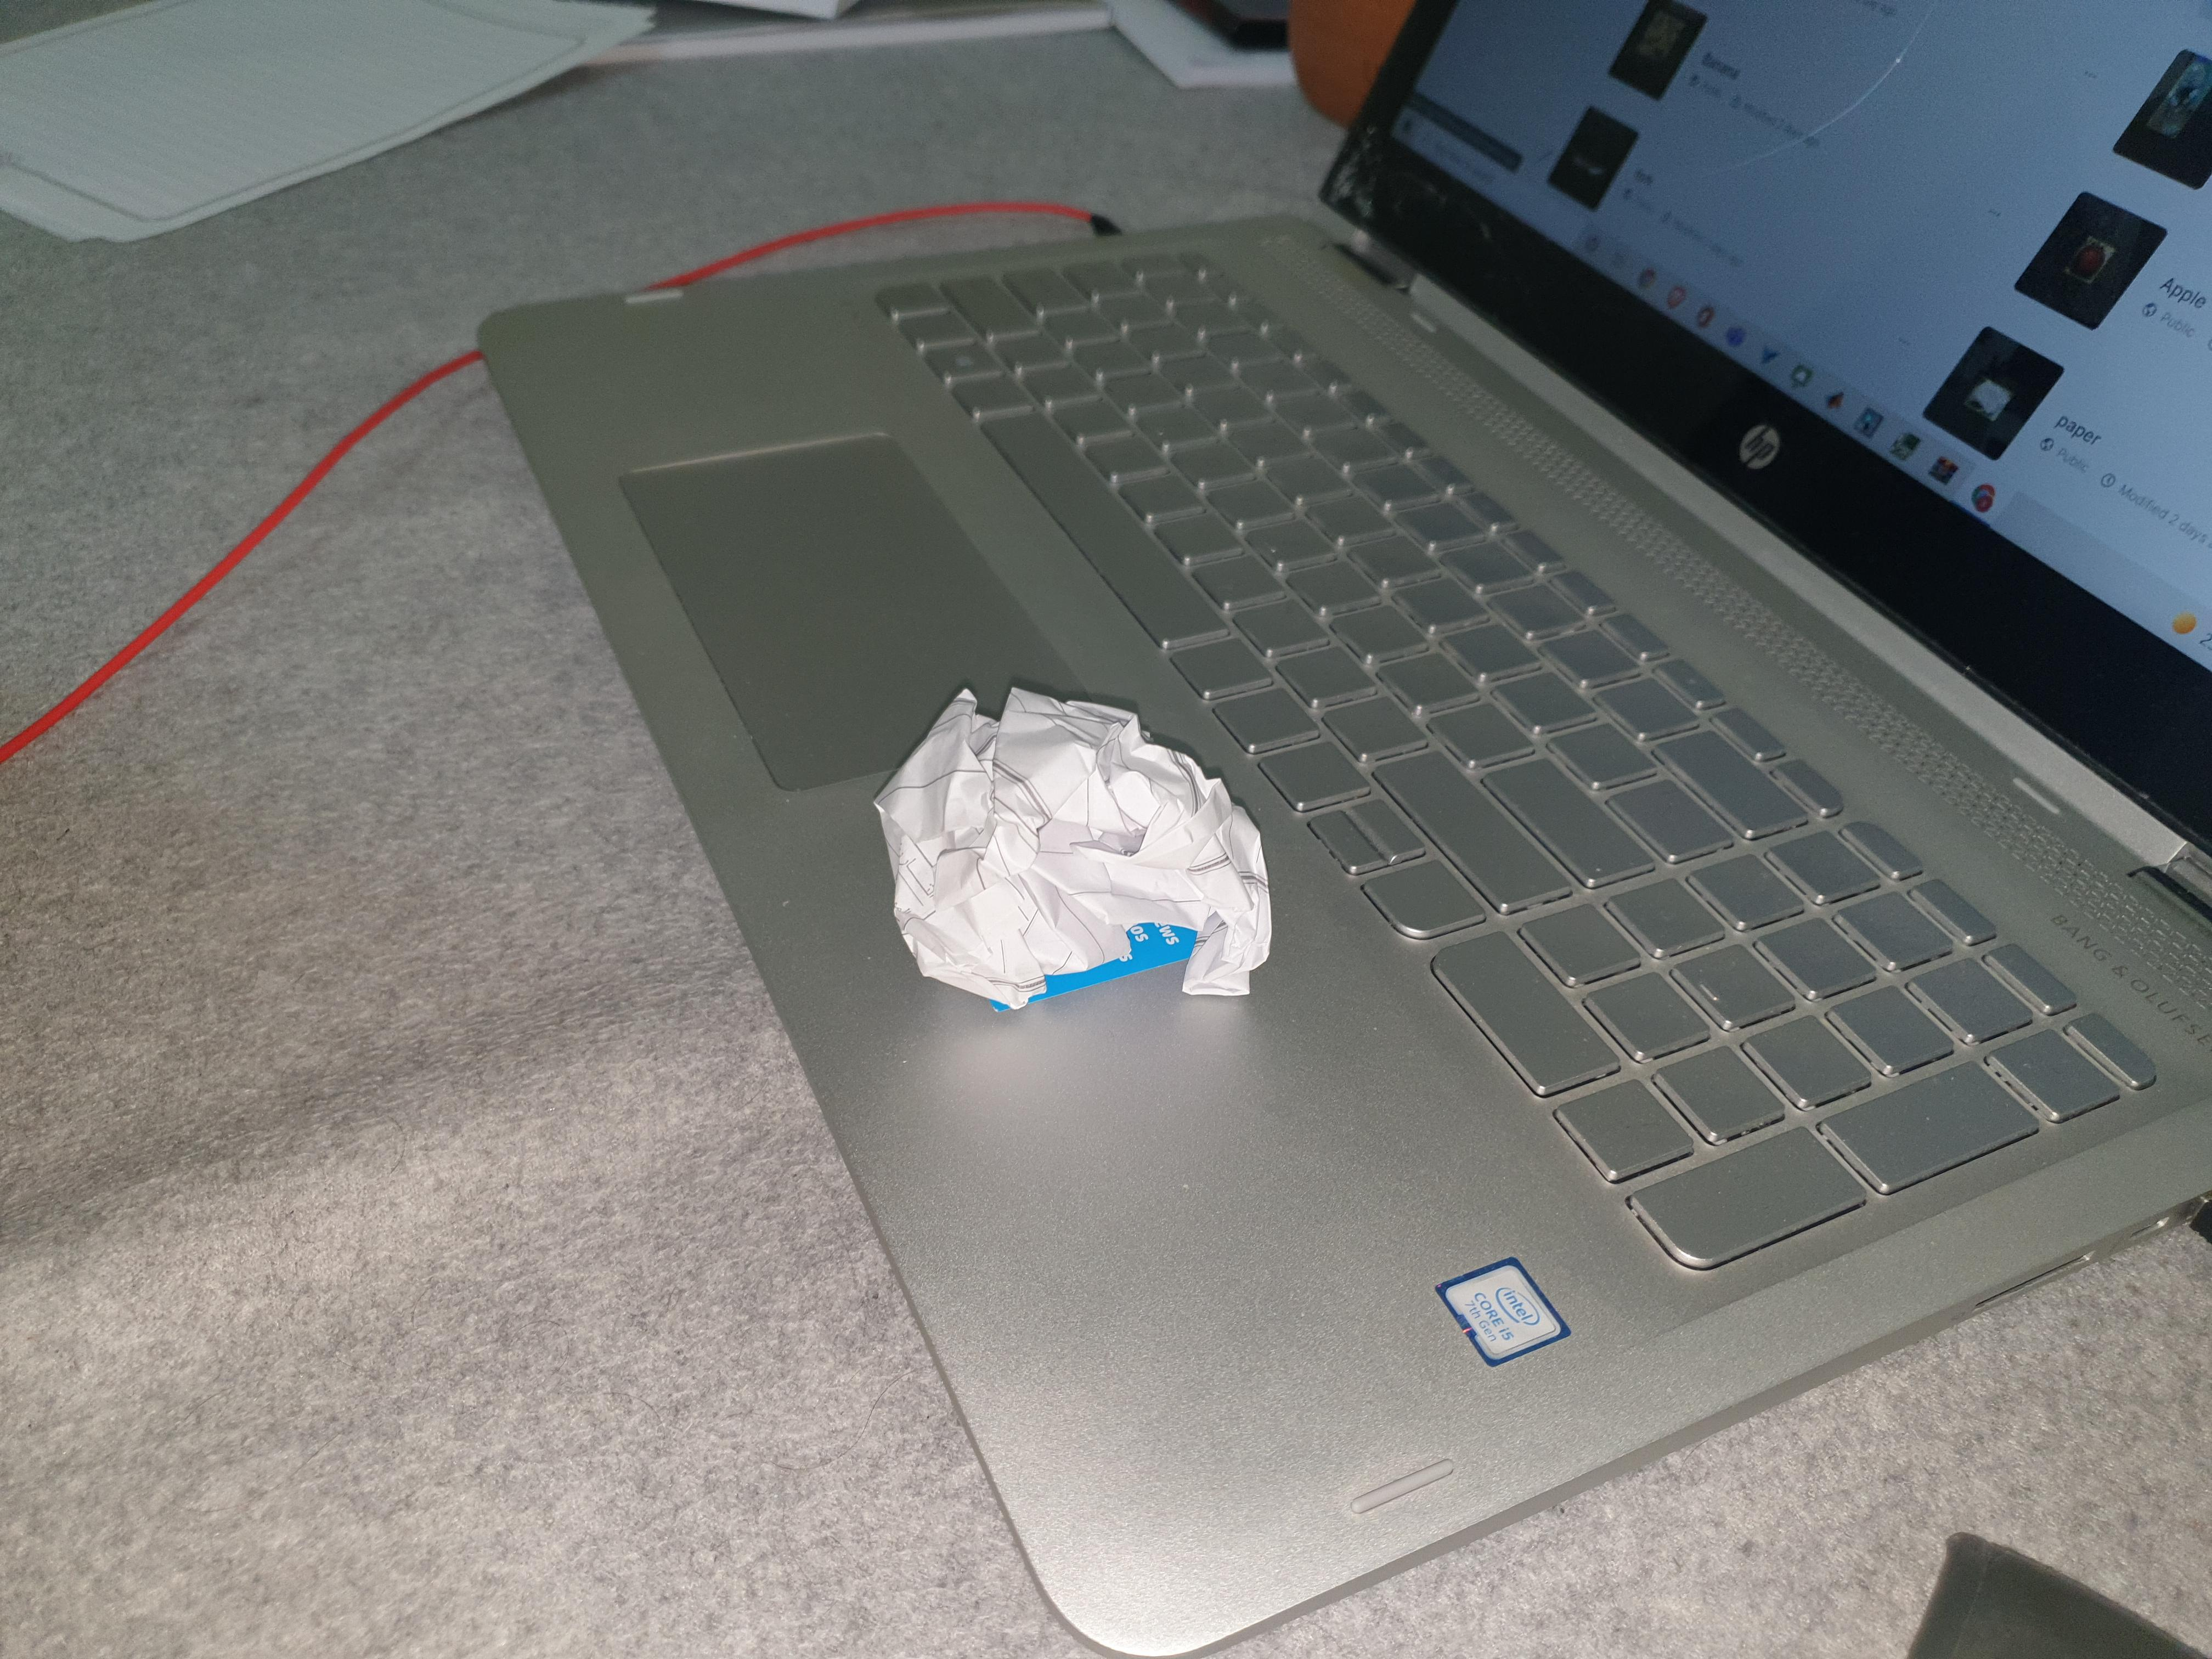Paper: (891, 675, 1284, 1020)
